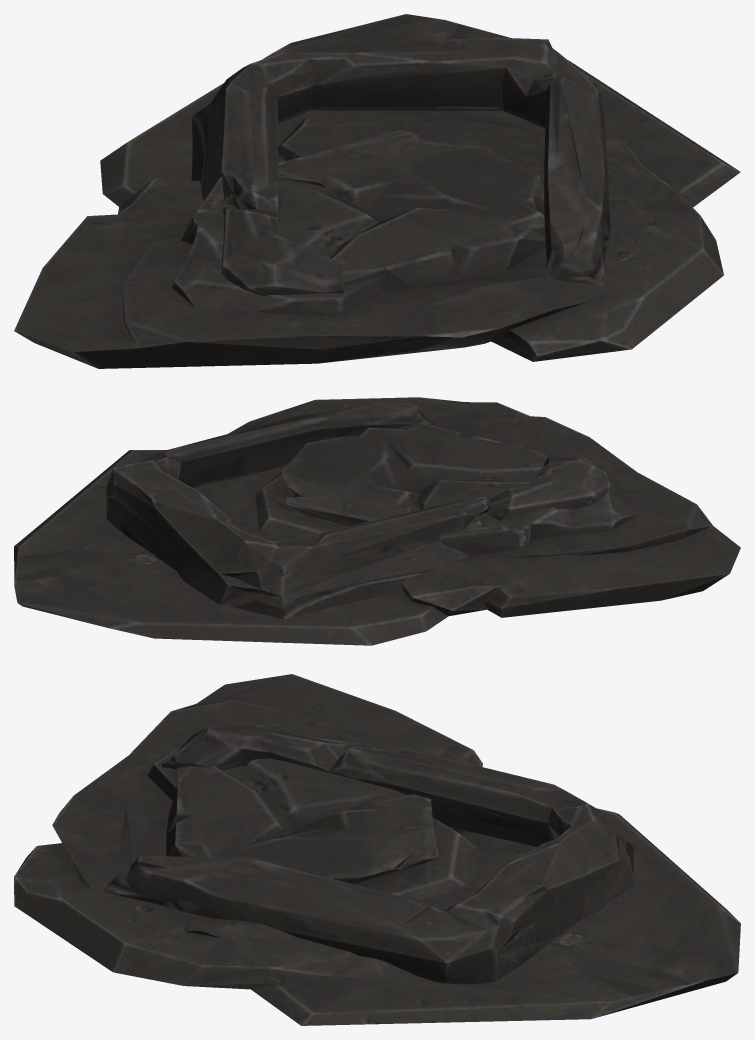
Rendered from badside_rocks006_b.glb.
3 renders of one model, top to bottom at view 1: azimuth 30°, elevation 25°; view 2: azimuth 150°, elevation 25°; view 3: azimuth 270°, elevation 25°, orthographic. The views are drawn at different scales.
Visible parts, largest first — view 1: badside_rocks006.vmdl_c.badside_rocks006_model; view 2: badside_rocks006.vmdl_c.badside_rocks006_model; view 3: badside_rocks006.vmdl_c.badside_rocks006_model.
Part boxes in pixels (bbox=[...]): badside_rocks006.vmdl_c.badside_rocks006_model: bbox=[14, 14, 740, 368]; badside_rocks006.vmdl_c.badside_rocks006_model: bbox=[14, 397, 740, 645]; badside_rocks006.vmdl_c.badside_rocks006_model: bbox=[14, 674, 740, 1025].
Size of the model in its own units: 9.66 by 1.01 by 8.98.
1 material, 1 textured.
